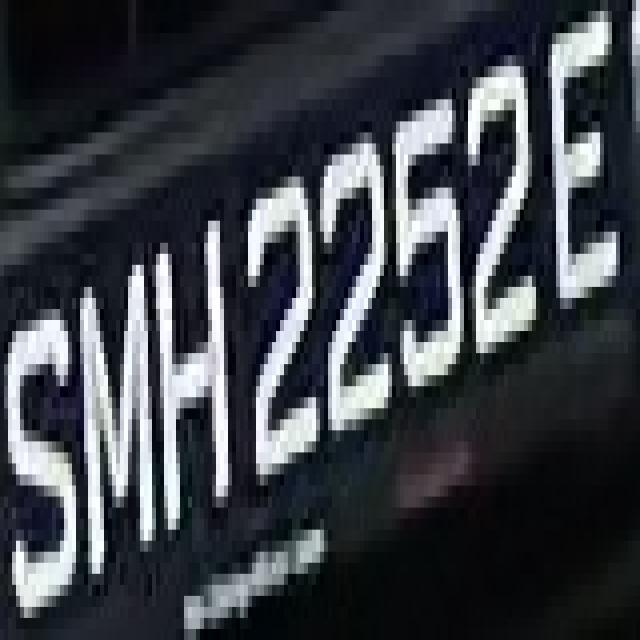2: (224, 166, 324, 497), (308, 144, 400, 496), (460, 44, 544, 397)
5: (384, 55, 472, 408)
E: (548, 0, 620, 331)
H: (148, 198, 240, 540)
M: (72, 232, 168, 574)
S: (0, 276, 76, 640)
